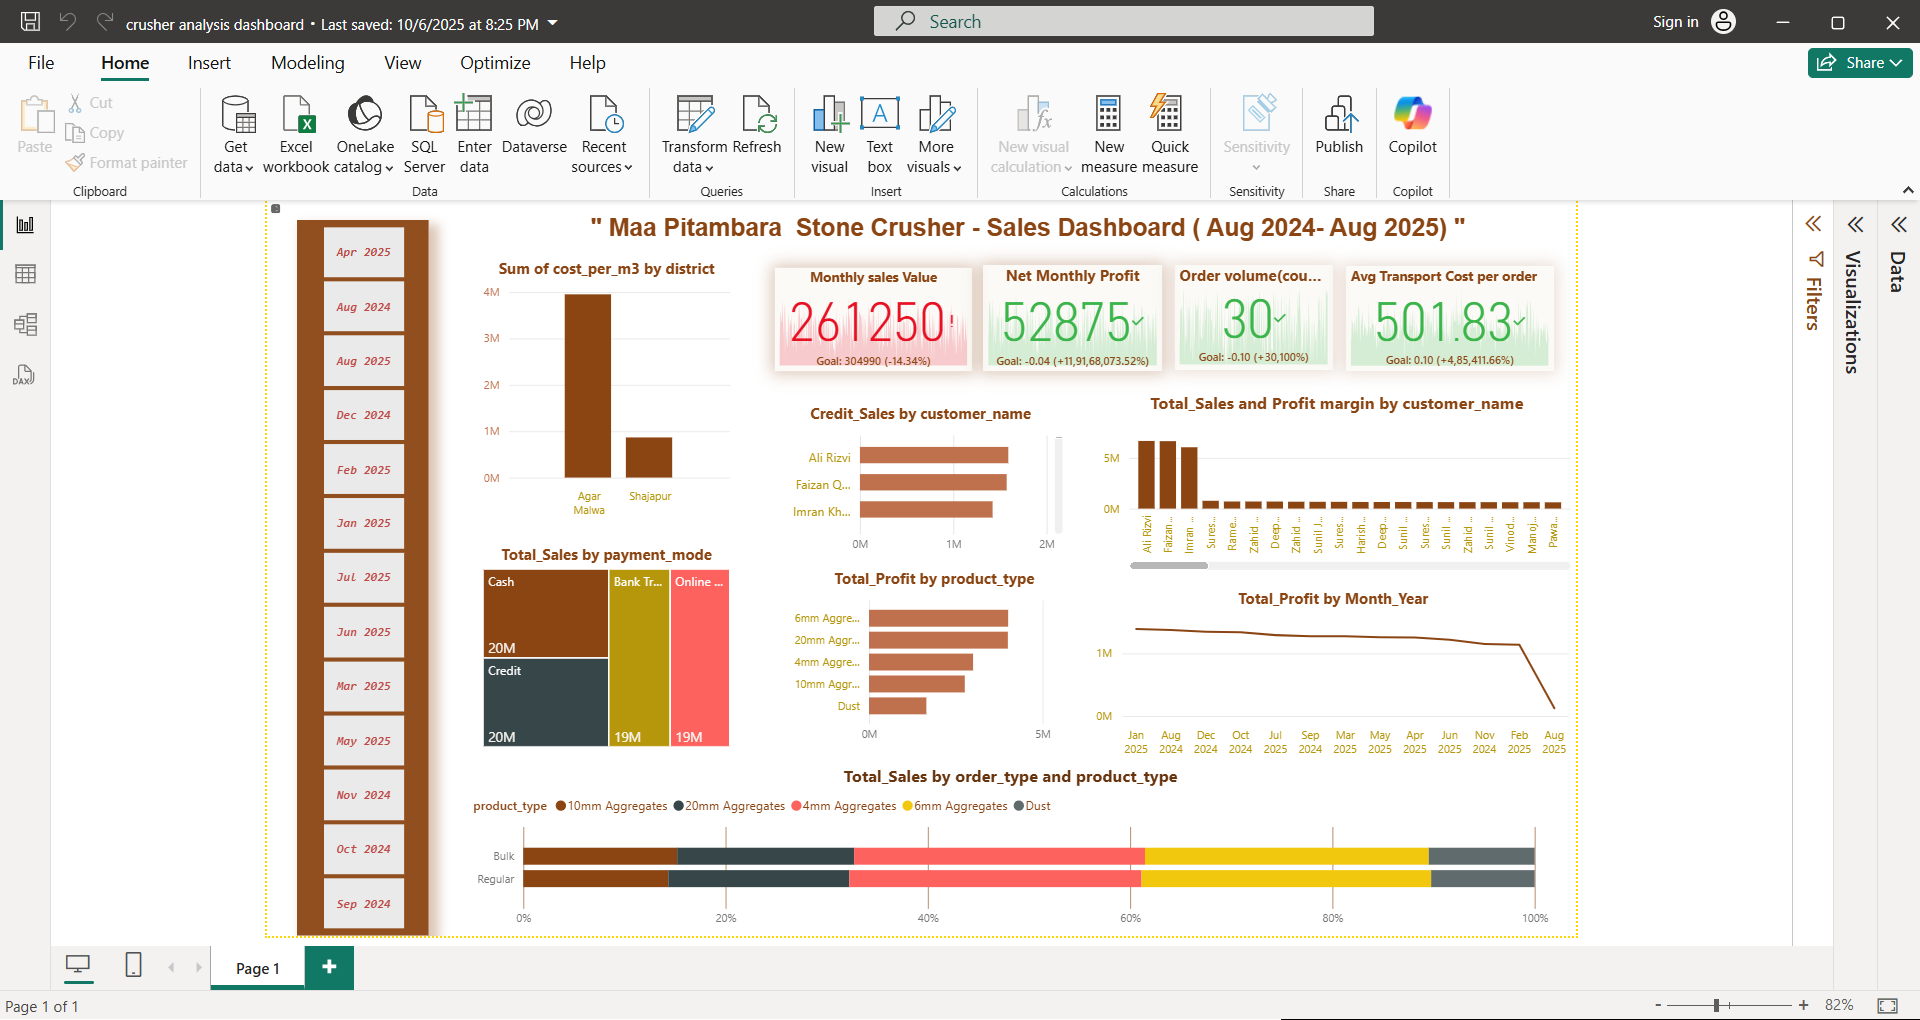

Layout of this report page (visuals, bound fields, positions):
{"tool":"powerbi","page":{"name":"Page 1","canvas":[1280,720],"ordinal":0},"visuals":[{"type":"kpi","title":"Monthly sales Value","fields":{"Indicator":["cleaned_crusher_data.Total_Sales"],"TrendLine":["cleaned_crusher_data.date"],"Goal":["cleaned_crusher_data.Total Sales Last Month"]},"box":[496.2,66.2,193.8,101.2],"z":0},{"type":"kpi","title":"Net Monthly Profit","fields":{"Indicator":["cleaned_crusher_data.Total_Profit"],"Goal":["cleaned_crusher_data.Profit Variance %"],"TrendLine":["cleaned_crusher_data.date"]},"box":[701.2,63.8,175,103.8],"z":1000},{"type":"kpi","title":"Order volume(count)","fields":{"Indicator":["cleaned_crusher_data.Total Orders Last Month"],"TrendLine":["cleaned_crusher_data.date"],"Goal":["cleaned_crusher_data.Orders Variance %"]},"box":[887.5,63.8,155,102.5],"z":2000},{"type":"kpi","title":"Avg Transport Cost per order","fields":{"Indicator":["cleaned_crusher_data.Avg Transport Cost Last Month"],"TrendLine":["cleaned_crusher_data.date"],"Goal":["cleaned_crusher_data.Cost Variance %"]},"box":[1055,65,203.8,102.5],"z":3000},{"type":"actionButton","box":[0,0,28.6,17.1],"z":4000},{"type":"barChart","fields":{"Category":["cleaned_crusher_data.product_type"],"Y":["cleaned_crusher_data.Total_Profit"]},"box":[500,360,305.7,180],"z":5000},{"type":"lineClusteredColumnComboChart","fields":{"Y":["cleaned_crusher_data.Total_Sales"],"Category":["cleaned_crusher_data.village"]},"box":[812.9,187.1,467.1,180],"z":6000},{"type":"hundredPercentStackedBarChart","fields":{"Category":["cleaned_crusher_data.order_type"],"Y":["cleaned_crusher_data.Total_Sales"],"Series":["cleaned_crusher_data.product_type"]},"box":[197.1,551.4,1061.4,168.6],"z":7000},{"type":"treemap","fields":{"Group":["cleaned_crusher_data.payment_mode"],"Values":["cleaned_crusher_data.Total_Sales"]},"box":[206.2,336.2,251.2,203.8],"z":8000},{"type":"barChart","fields":{"Category":["cleaned_crusher_data.customer_name"],"Y":["cleaned_crusher_data.Credit_Sales"]},"box":[495.7,198.6,288.6,155.7],"z":9000},{"type":"slicer","fields":{"Values":["cleaned_crusher_data.Month_Year_Slicer"]},"box":[28.8,20,128.8,700],"z":10000},{"type":"lineChart","title":"Total_Profit by Month_Year","fields":{"Y":["cleaned_crusher_data.Total_Profit"],"Category":["cleaned_crusher_data.month_year.Variation.Date Hierarchy.Year","cleaned_crusher_data.month_year.Variation.Date Hierarchy.Month"]},"box":[805.7,378.6,474.3,172.9],"z":11000},{"type":"textbox","box":[280,8.6,928.6,55.7],"z":12000},{"type":"columnChart","fields":{"Category":["cleaned_crusher_data.district"],"Y":["Sum(cleaned_crusher_data.cost_per_m3)"]},"box":[206.2,56.2,251.2,262.5],"z":13000}]}

Visuals, with their boxes on the page's 1280x720 design canvas (x1, y1, x2, y2). These are canvas units, not pixel positions in the 1920x1020 screenshot, which may show the page scaled, cropped or inside an application window:
"Monthly sales Value" kpi: left=496, top=66, right=690, bottom=167
"Net Monthly Profit" kpi: left=701, top=64, right=876, bottom=168
"Order volume(count)" kpi: left=888, top=64, right=1042, bottom=166
"Avg Transport Cost per order" kpi: left=1055, top=65, right=1259, bottom=168
actionButton: left=0, top=0, right=29, bottom=17
barChart - cleaned_crusher_data.product_type x cleaned_crusher_data.Total_Profit: left=500, top=360, right=806, bottom=540
lineClusteredColumnComboChart - cleaned_crusher_data.Total_Sales x cleaned_crusher_data.village: left=813, top=187, right=1280, bottom=367
hundredPercentStackedBarChart - cleaned_crusher_data.order_type x cleaned_crusher_data.Total_Sales: left=197, top=551, right=1258, bottom=720
treemap - cleaned_crusher_data.payment_mode x cleaned_crusher_data.Total_Sales: left=206, top=336, right=457, bottom=540
barChart - cleaned_crusher_data.customer_name x cleaned_crusher_data.Credit_Sales: left=496, top=199, right=784, bottom=354
slicer - cleaned_crusher_data.Month_Year_Slicer: left=29, top=20, right=158, bottom=720
"Total_Profit by Month_Year" lineChart: left=806, top=379, right=1280, bottom=552
textbox: left=280, top=9, right=1209, bottom=64
columnChart - cleaned_crusher_data.district x Sum(cleaned_crusher_data.cost_per_m3): left=206, top=56, right=457, bottom=319
